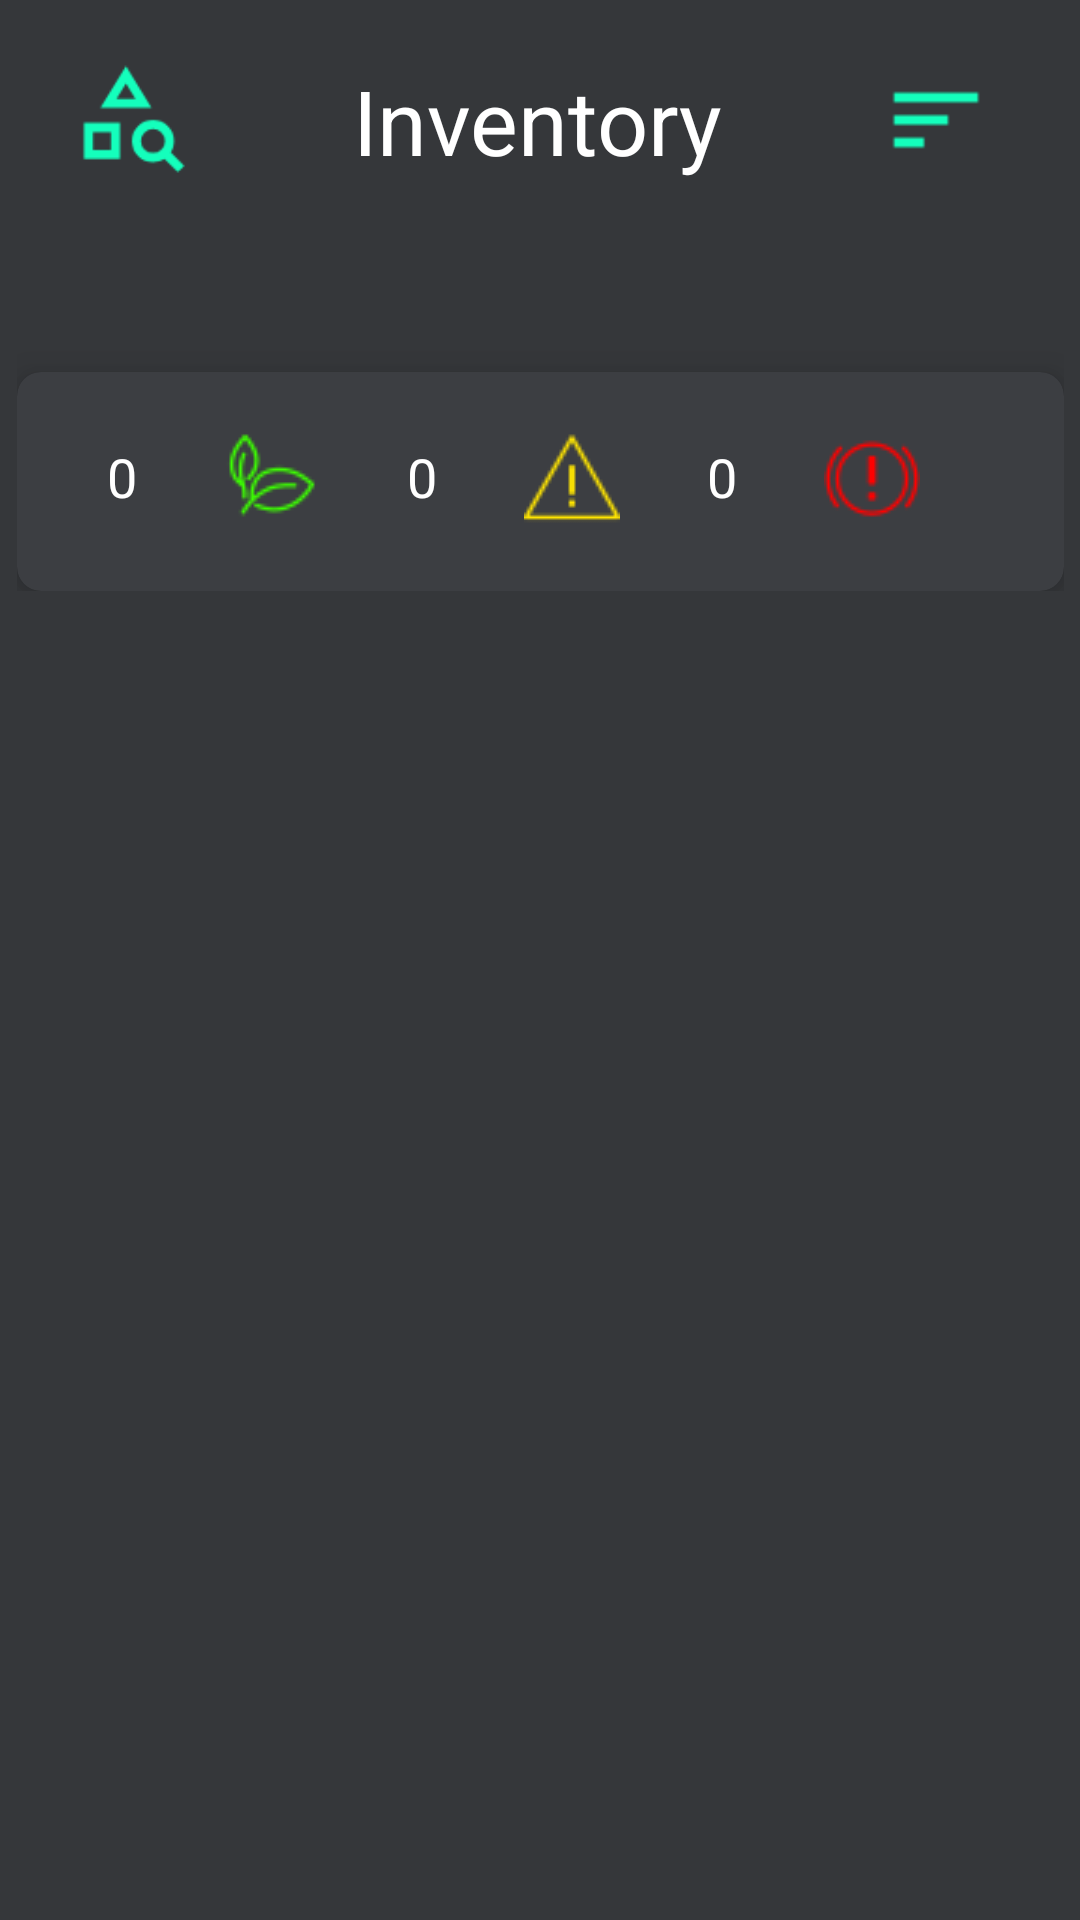

Named icons in this screenshot (1080×1920) and their centers, (x=x, y=y):
Expired ingredients: (x=872, y=478)
Fresh ingredients: (x=272, y=475)
Ingredients expiring soon: (x=572, y=477)
Sort icon: (x=936, y=120)
